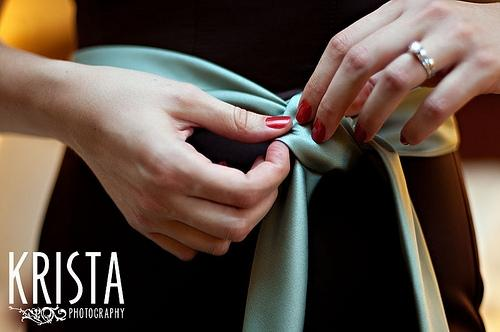strawberry: (70, 45, 460, 332)
